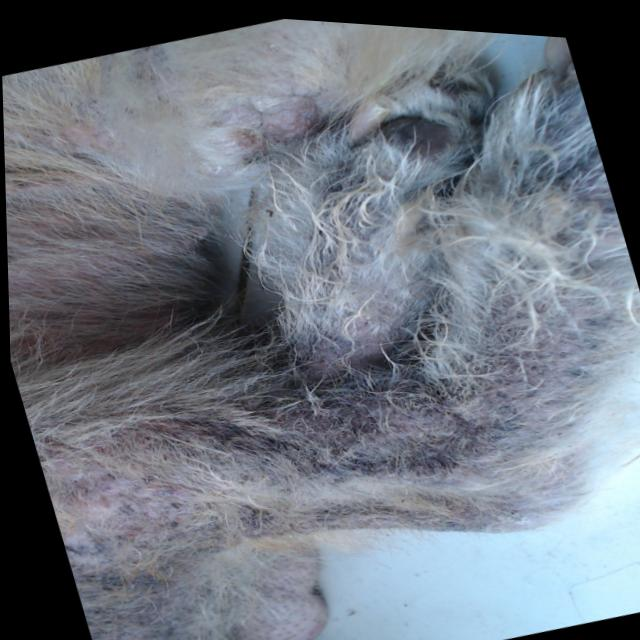demodicosis: (321, 274, 615, 500), (52, 410, 224, 560), (72, 557, 208, 640)
